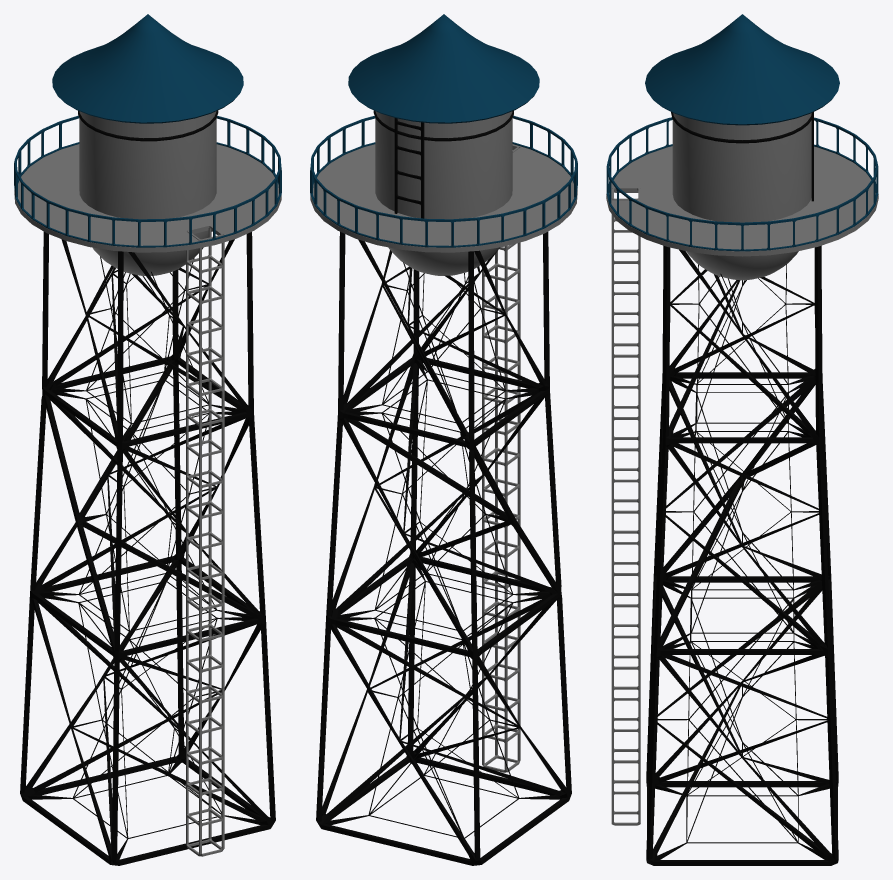
Rendered from water_tower_7.fbx.
3 views of the same model, side by side, from view 1: azimuth 30°, elevation 25°; view 2: azimuth 150°, elevation 25°; view 3: azimuth 270°, elevation 25° (orthographic).
Parts seen in each view (by area): view 1: Plane.023, Sphere.004, Cube.004, Sphere.005, Sphere.006; view 2: Plane.023, Sphere.004, Sphere.005, Cube.004, Sphere.006, Cube.006; view 3: Plane.023, Sphere.004, Sphere.005, Cube.004, Sphere.006.
Boxes of the visible parts, x1,y1,x2,y2 form: Plane.023: [20, 231, 275, 865]; Sphere.004: [52, 14, 243, 275]; Cube.004: [186, 225, 224, 856]; Sphere.005: [14, 144, 281, 252]; Sphere.006: [14, 115, 281, 247]; Plane.023: [316, 231, 571, 865]; Sphere.004: [348, 14, 539, 275]; Sphere.005: [310, 144, 577, 252]; Cube.004: [482, 145, 520, 772]; Sphere.006: [310, 115, 577, 247]; Cube.006: [394, 118, 424, 218]; Plane.023: [646, 245, 838, 865]; Sphere.004: [645, 14, 839, 280]; Sphere.005: [606, 146, 878, 256]; Cube.004: [611, 187, 640, 825]; Sphere.006: [606, 117, 878, 251].
Bounding box in the file's own units: 224 × 736 × 224.
